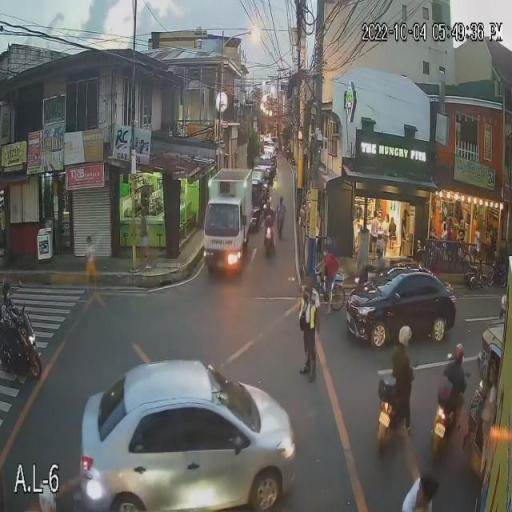helmet: (452, 343, 466, 362), (398, 326, 412, 344), (266, 216, 274, 224)
motorcycle: (374, 373, 412, 455), (0, 314, 43, 384), (430, 384, 466, 458), (462, 258, 492, 292), (488, 258, 510, 289), (263, 224, 278, 258), (248, 204, 263, 234)
rider: (389, 326, 414, 418), (438, 343, 467, 419), (0, 278, 20, 332), (262, 214, 276, 243)
